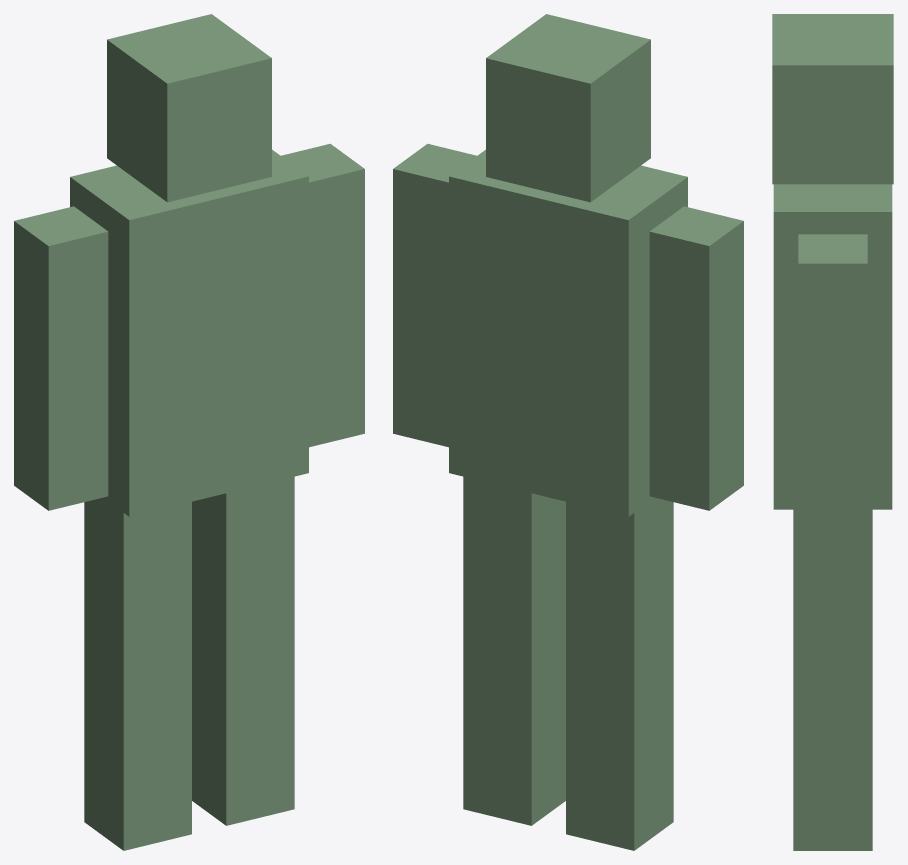
The model's file is ranger.glb.
The picture shows the model from 3 angles, left to right: view 1: azimuth 30°, elevation 25°; view 2: azimuth 150°, elevation 25°; view 3: azimuth 270°, elevation 25°; orthographic projection.
Parts seen in each view (by area): view 1: ranger; view 2: ranger; view 3: ranger.
Boxes of the visible parts, x1,y1,x2,y2 form: ranger: [14, 14, 364, 850]; ranger: [393, 14, 743, 850]; ranger: [772, 14, 893, 850].
Size of the model in its own units: 0.74 by 1.71 by 0.2448.
